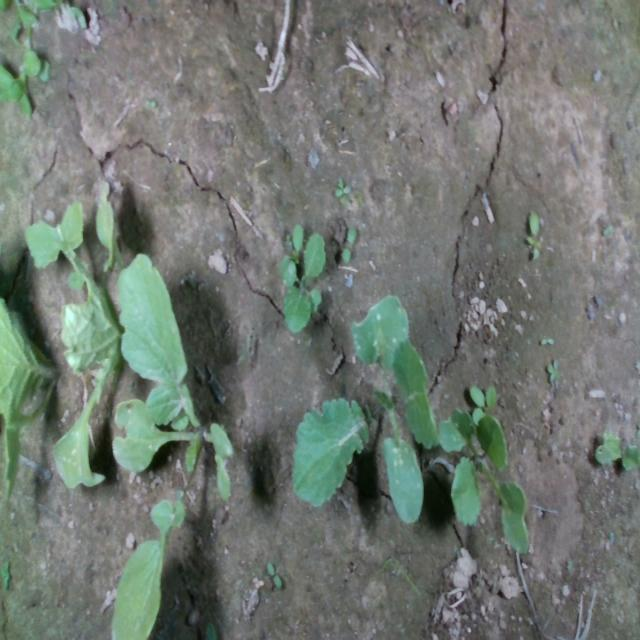weed: (523, 206, 543, 262), (341, 223, 357, 262), (333, 174, 351, 204), (264, 561, 282, 588), (545, 357, 561, 382), (1, 557, 10, 591), (538, 334, 554, 346)
